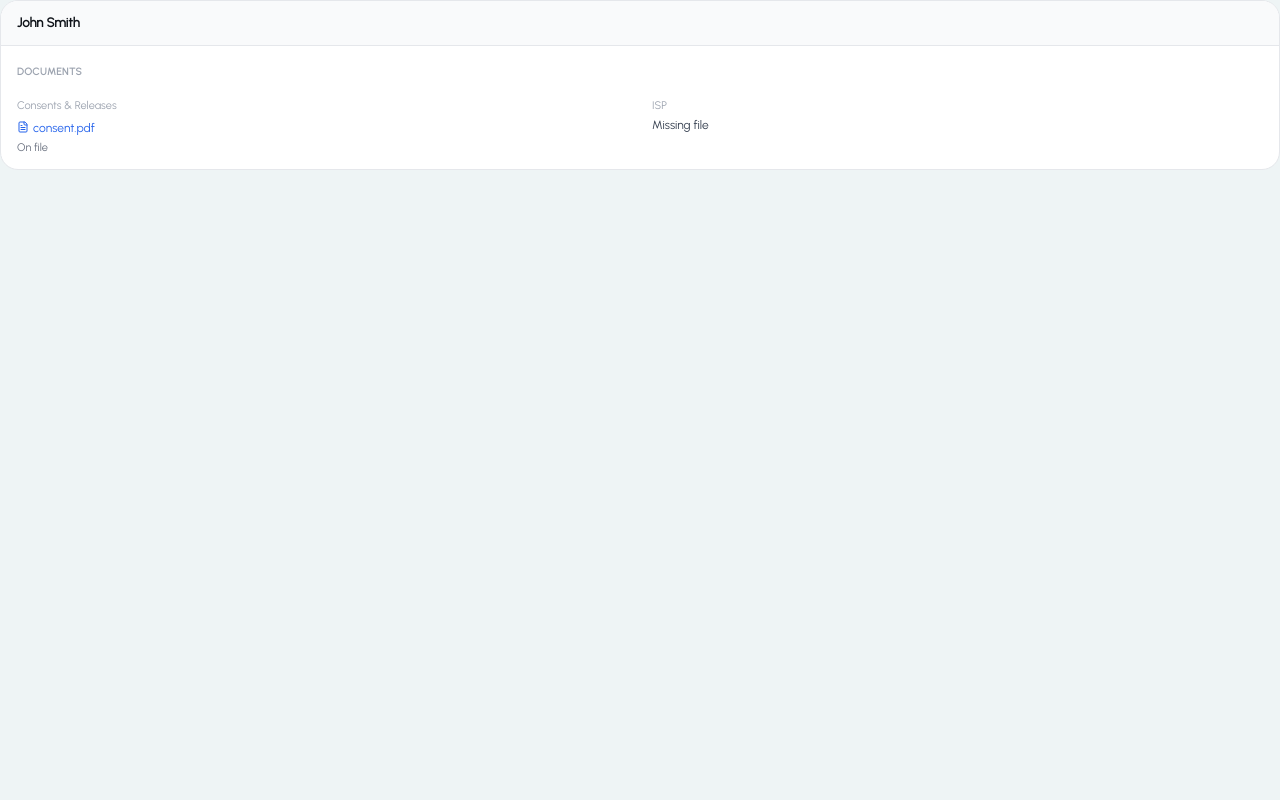
GenericDetailCard documents › shows an error when the client can't be loaded
The image size is (1280, 800).
Click the button with aria-label "Preview Consents & Releases: consent.pdf". click: (56, 128)
box: [17,119,95,137]
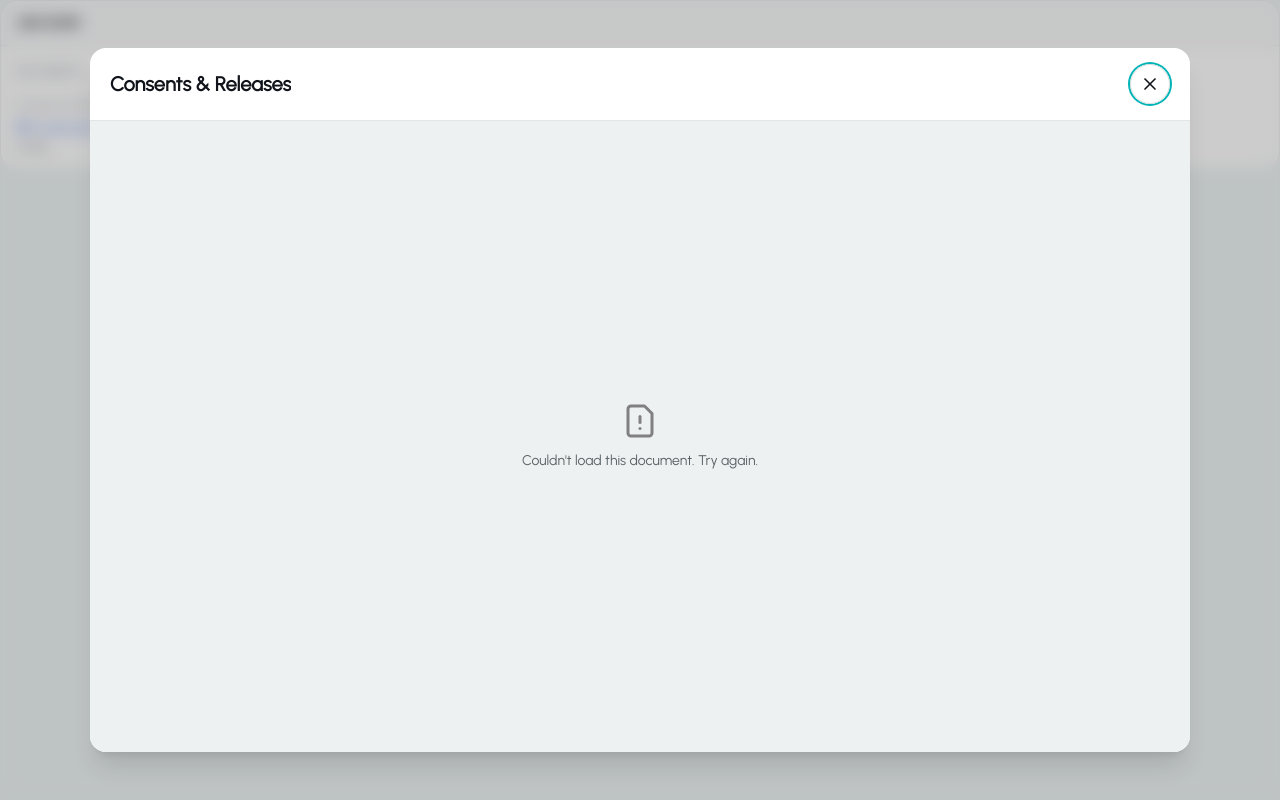
Result: the text "Couldn't load this document. Try again." is shown at [522,450,758,470]
